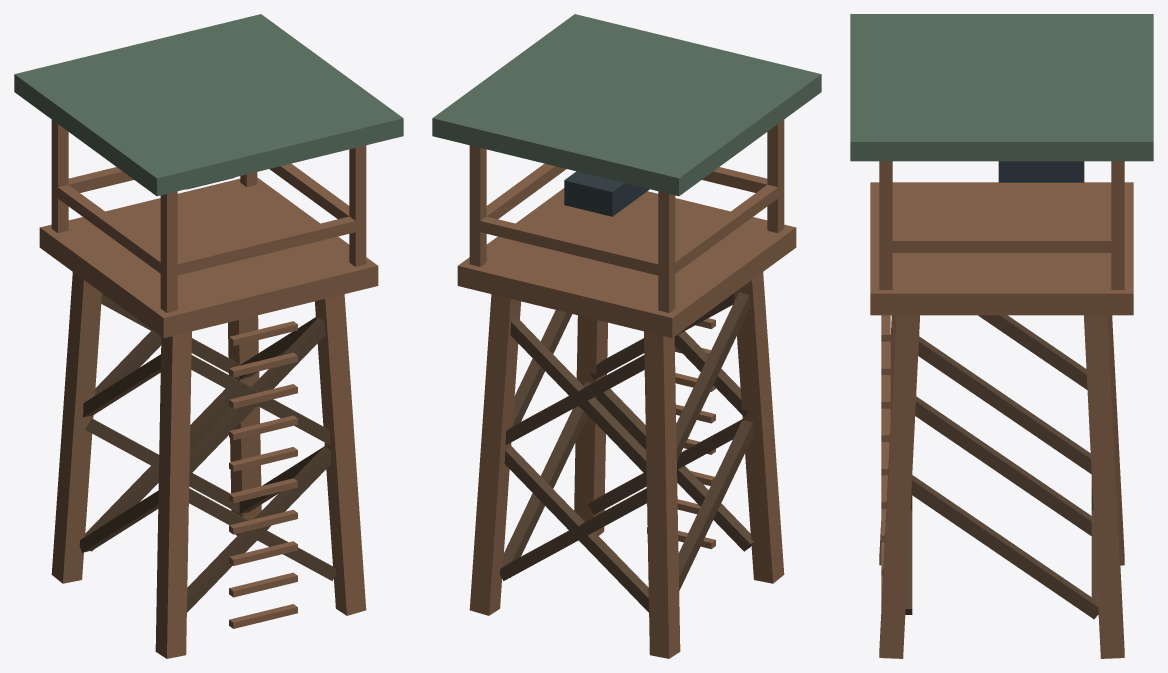
The model's file is watchtower.glb.
3 renders of one model, left to right at view 1: azimuth 30°, elevation 25°; view 2: azimuth 150°, elevation 25°; view 3: azimuth 270°, elevation 25°, orthographic. The views are drawn at different scales.
Parts seen in each view (by area): view 1: watchtower; view 2: watchtower; view 3: watchtower.
Part boxes in pixels (bbox=[...]): watchtower: bbox=[14, 14, 403, 658]; watchtower: bbox=[432, 14, 821, 658]; watchtower: bbox=[850, 14, 1153, 658].
Size of the model in its own units: 2.3 by 4.44 by 2.3.
